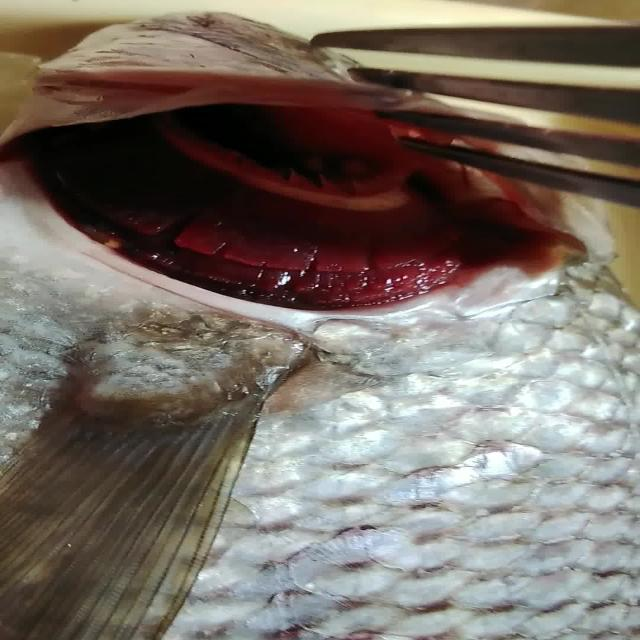Fresh: (20, 74, 610, 328)
